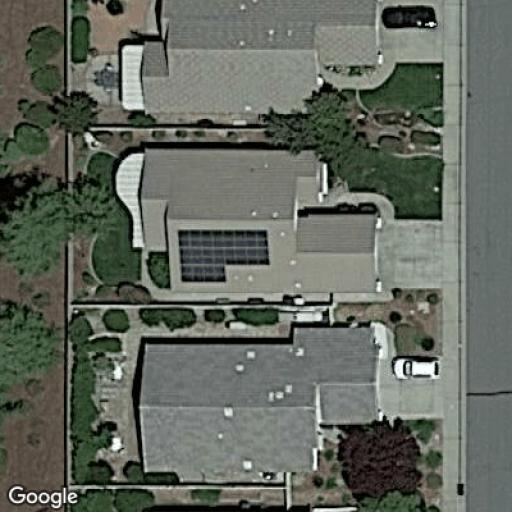solar-panel: (175, 226, 272, 284)
